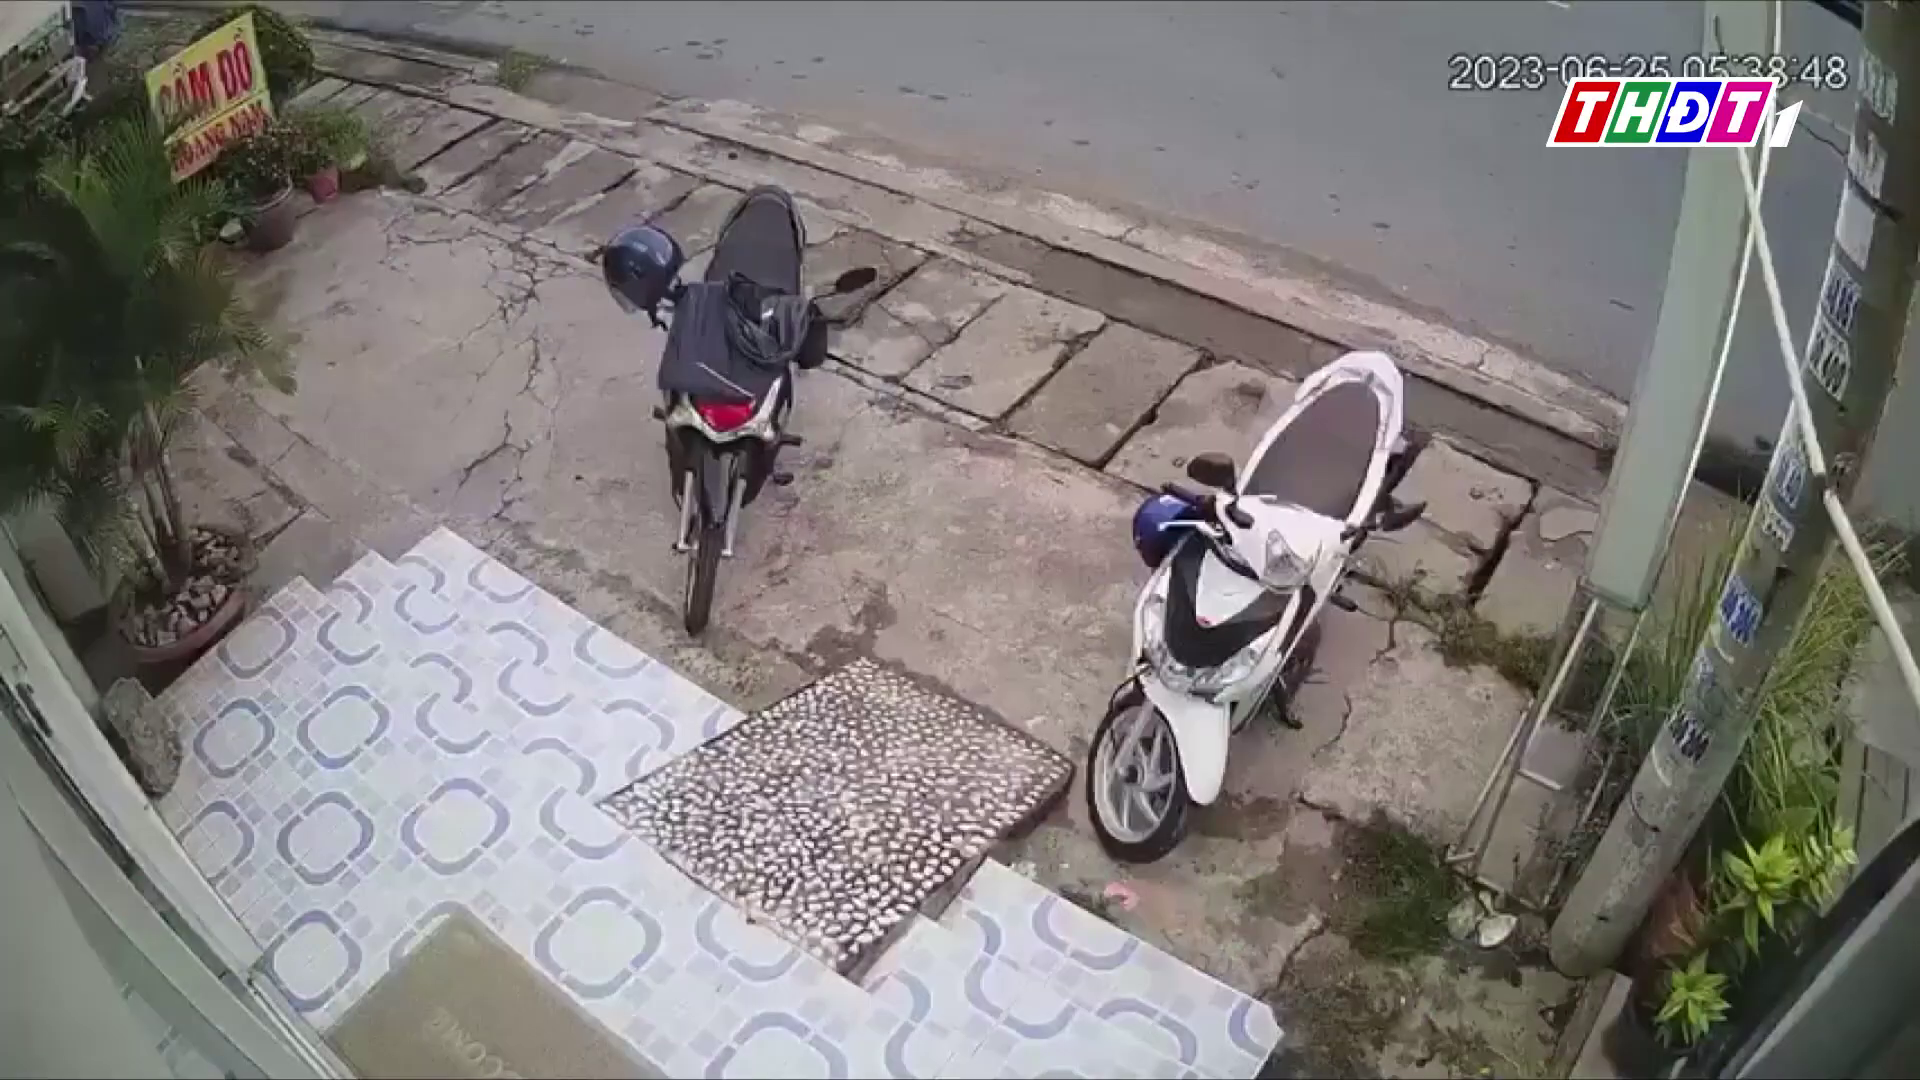Motorcycle: (1084, 348, 1428, 865), (597, 181, 877, 637)
